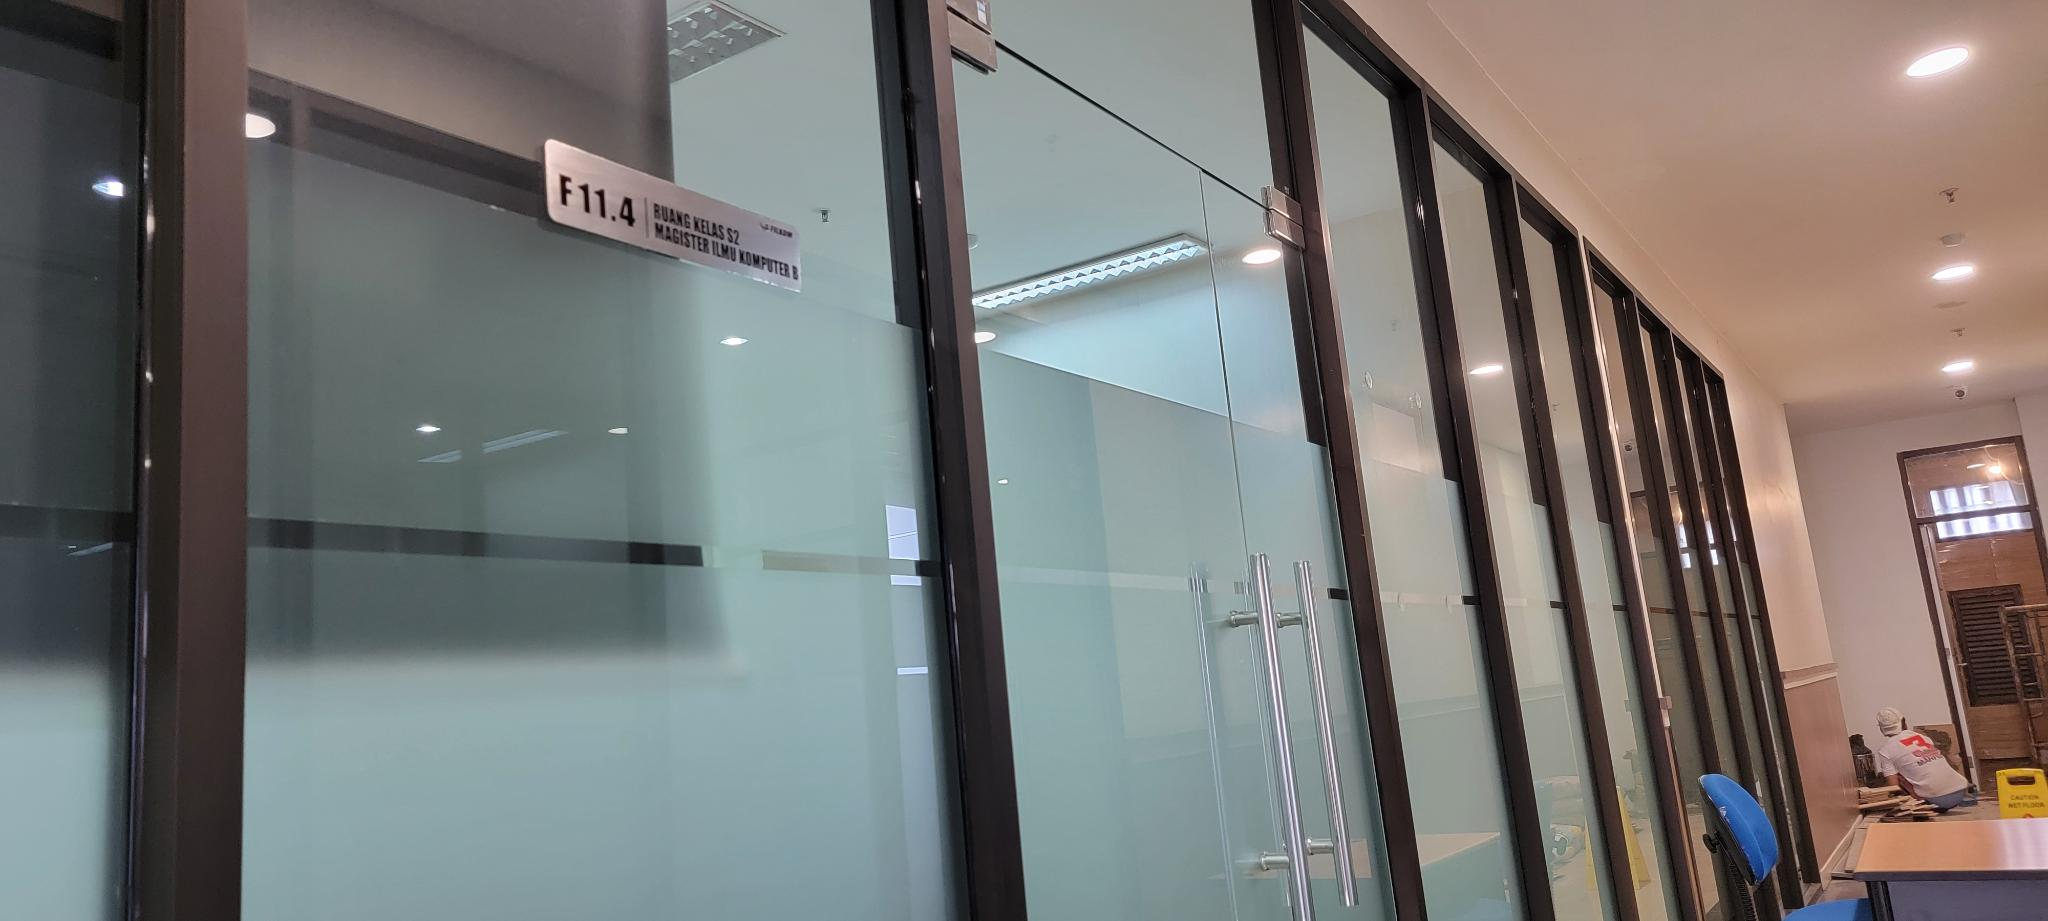plate: (545, 131, 806, 293)
